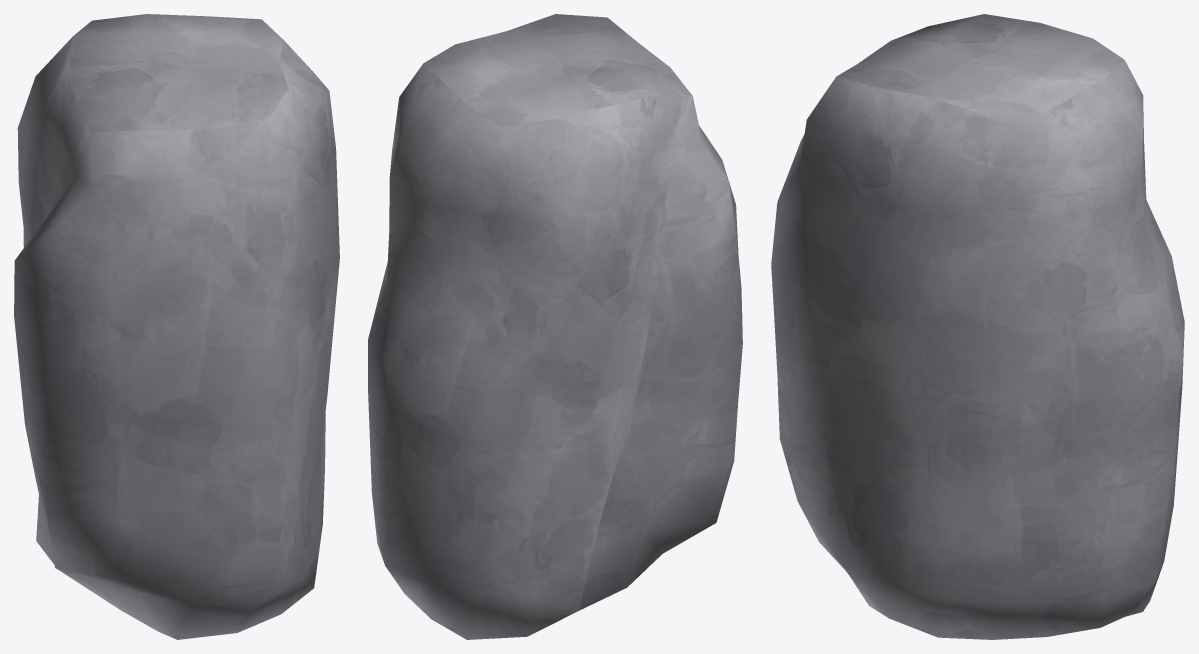
Rendered from Rock_3.fbx.
The picture shows the model from 3 angles, left to right: view 1: azimuth 30°, elevation 25°; view 2: azimuth 150°, elevation 25°; view 3: azimuth 270°, elevation 25°; orthographic projection. The views are drawn at different scales.
Parts seen in each view (by area): view 1: Rock_3; view 2: Rock_3; view 3: Rock_3.
Boxes of the visible parts, left/top/right/bottom form: Rock_3: left=14, top=14, right=339, bottom=639; Rock_3: left=368, top=14, right=742, bottom=639; Rock_3: left=771, top=14, right=1184, bottom=639.
Bounding box in the file's own units: 3.92 × 6.67 × 4.61.
